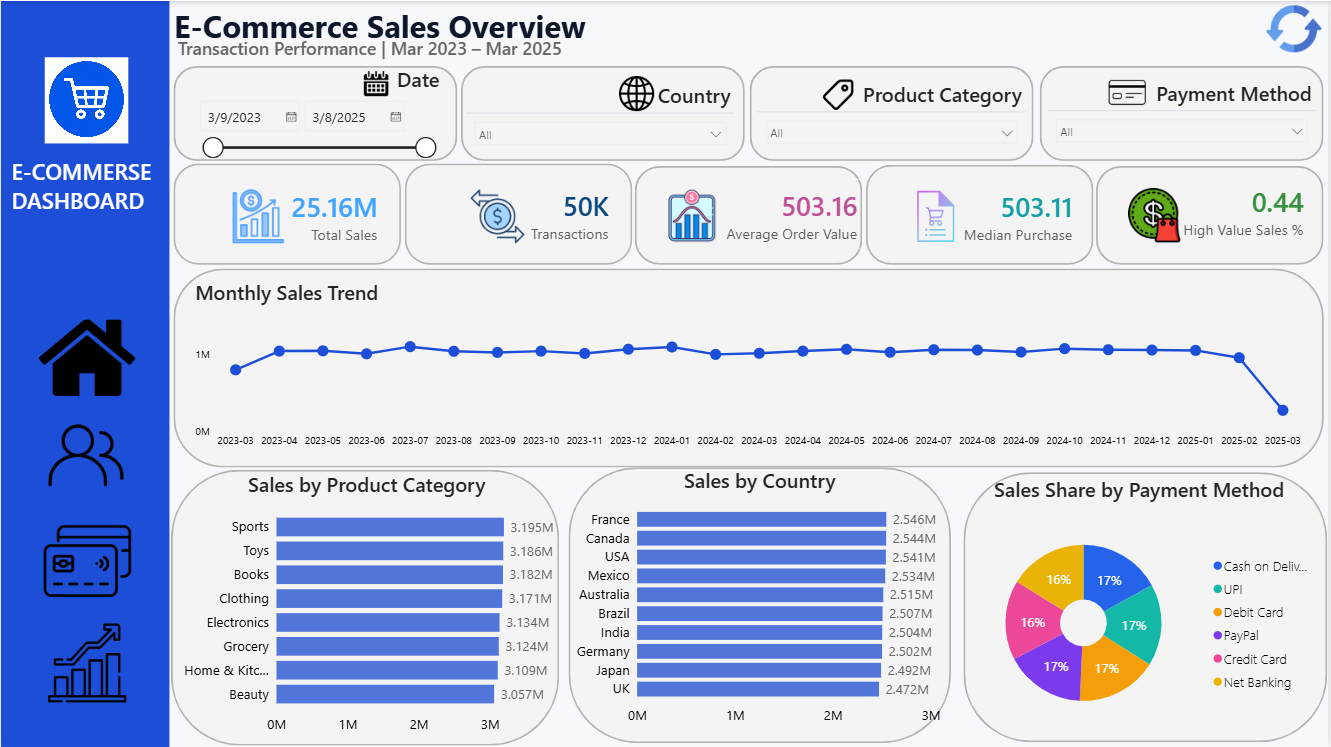

The page's visual inventory and layout, read from the dashboard file:
{"tool":"powerbi","page":{"name":"Page 1","canvas":[1600,900],"ordinal":0},"visuals":[{"type":"shape","box":[0,0,203.6,900.3],"z":0},{"type":"textbox","box":[203.6,0,595.7,67.9],"z":1000},{"type":"textbox","box":[208,37,505.2,61],"z":2000},{"type":"image","box":[52.8,67.9,101,104.1],"z":3000},{"type":"textbox","box":[7.5,182.5,190,89],"z":4000},{"type":"image","box":[52.8,751,102.5,95],"z":5000},{"type":"image","box":[57.3,488.6,90.5,119.1],"z":6000},{"type":"image","box":[48.3,622.8,111.6,105.6],"z":7000},{"type":"shape","box":[208.1,78.4,342.3,114.6],"z":8000},{"type":"slicer","title":"Date","fields":{"Values":["DimDate.Date"]},"box":[227.7,78.4,306.1,114.6],"z":9000},{"type":"shape","box":[903.3,78.4,342.3,114.6],"z":10000},{"type":"shape","box":[1253.2,78.4,342.3,114.6],"z":11000},{"type":"shape","box":[555,78.4,342.3,114.6],"z":12000},{"type":"slicer","title":"Country","fields":{"Values":["Transactions.Country"]},"box":[561,98,324.2,84.5],"z":13000},{"type":"slicer","title":"Payment Method","fields":{"Values":["Transactions.Payment_Method"]},"box":[1262.2,95,324.2,87.5],"z":14000},{"type":"slicer","title":"Product Category","fields":{"Values":["Transactions.Product_Category"]},"box":[912.4,96.5,324.2,86],"z":15000},{"type":"shape","box":[208.1,196,274.5,122.2],"z":16000},{"type":"shape","box":[1043.6,197.6,274.5,120.6],"z":17000},{"type":"shape","box":[1321.1,199.1,274.5,119.1],"z":18000},{"type":"shape","box":[764.6,199.1,274.5,119.1],"z":19000},{"type":"shape","box":[487.1,196,274.5,122.2],"z":20000},{"type":"image","box":[417.7,84,69.4,30.2],"z":21000},{"type":"image","box":[734.4,90.5,64.8,42.2],"z":22000},{"type":"image","box":[957.6,93.5,104.1,39.2],"z":23000},{"type":"image","box":[1307.5,87.5,102.5,45.2],"z":24000},{"type":"cardVisual","fields":{"Data":["Dax.Total Sales"]},"box":[306.1,199.1,176.4,119.1],"z":25000},{"type":"cardVisual","fields":{"Data":["Dax.Transactions Count"]},"box":[585.1,197.6,176.4,119.1],"z":26000},{"type":"cardVisual","fields":{"Data":["Dax.Average Order Value"]},"box":[837,197.6,224.7,119.1],"z":27000},{"type":"cardVisual","fields":{"Data":["Dax.Median Purchase"]},"box":[1126.5,199.1,194.5,119.1],"z":28000},{"type":"cardVisual","fields":{"Data":["Dax.High Value Sales %"]},"box":[1381.4,193,218.7,119.1],"z":29000},{"type":"image","box":[276.2,226.4,68.6,66.9],"z":30000},{"type":"image","box":[560.9,226.4,77.2,66.9],"z":31000},{"type":"image","box":[799.3,226.4,70.3,66.9],"z":32000},{"type":"image","box":[1092.6,224.7,68.6,70.3],"z":33000},{"type":"image","box":[1358.5,223,65.2,70.3],"z":34000},{"type":"shape","box":[207.5,322.5,1387.7,240.1],"z":35000},{"type":"shape","box":[205.8,566,468.3,332.8],"z":36000},{"type":"lineChart","title":"Monthly Sales Trend","fields":{"Category":["DimDate.Year Month"],"Y":["Dax.Total Sales"]},"box":[229.8,334.5,1346.5,214.4],"z":37000},{"type":"shape","box":[1161.2,568.5,438.8,325.7],"z":38000},{"type":"shape","box":[684.4,562.6,461.4,332.8],"z":39000},{"type":"clusteredBarChart","title":"Sales by Product Category","fields":{"Category":["Transactions.Product_Category"],"Y":["Dax.Total Sales"]},"box":[197.3,567.8,487.1,327.6],"z":40000},{"type":"clusteredBarChart","title":"Sales by Country","fields":{"Y":["Dax.Total Sales"],"Category":["Transactions.Country"]},"box":[684.7,562.5,461.5,321.2],"z":41000},{"type":"donutChart","title":"Sales Share by Payment Method","fields":{"Category":["Transactions.Payment_Method"],"Y":["Dax.Total Sales"]},"box":[1146.1,573.1,453.9,322.7],"z":42000},{"type":"image","box":[1518,0,82.3,66.9],"z":43000},{"type":"image","box":[36.2,372.5,135.7,116.1],"z":44000}]}

Visuals, with their boxes in screenshot pixels (x1, y1, x2, y2), scaled from the page's 1600x900 canvas onto the 1331x747 screenshot:
shape: {"x1": 0, "y1": 0, "x2": 169, "y2": 746}
textbox: {"x1": 169, "y1": 0, "x2": 665, "y2": 56}
textbox: {"x1": 173, "y1": 31, "x2": 593, "y2": 81}
image: {"x1": 44, "y1": 56, "x2": 128, "y2": 143}
textbox: {"x1": 6, "y1": 151, "x2": 164, "y2": 225}
image: {"x1": 44, "y1": 623, "x2": 129, "y2": 702}
image: {"x1": 48, "y1": 406, "x2": 123, "y2": 504}
image: {"x1": 40, "y1": 517, "x2": 133, "y2": 605}
shape: {"x1": 173, "y1": 65, "x2": 458, "y2": 160}
"Date" slicer: {"x1": 189, "y1": 65, "x2": 444, "y2": 160}
shape: {"x1": 751, "y1": 65, "x2": 1036, "y2": 160}
shape: {"x1": 1043, "y1": 65, "x2": 1327, "y2": 160}
shape: {"x1": 462, "y1": 65, "x2": 746, "y2": 160}
"Country" slicer: {"x1": 467, "y1": 81, "x2": 736, "y2": 151}
"Payment Method" slicer: {"x1": 1050, "y1": 79, "x2": 1320, "y2": 151}
"Product Category" slicer: {"x1": 759, "y1": 80, "x2": 1029, "y2": 151}
shape: {"x1": 173, "y1": 163, "x2": 401, "y2": 264}
shape: {"x1": 868, "y1": 164, "x2": 1096, "y2": 264}
shape: {"x1": 1099, "y1": 165, "x2": 1327, "y2": 264}
shape: {"x1": 636, "y1": 165, "x2": 864, "y2": 264}
shape: {"x1": 405, "y1": 163, "x2": 634, "y2": 264}
image: {"x1": 347, "y1": 70, "x2": 405, "y2": 95}
image: {"x1": 611, "y1": 75, "x2": 665, "y2": 110}
image: {"x1": 797, "y1": 78, "x2": 883, "y2": 110}
image: {"x1": 1088, "y1": 73, "x2": 1173, "y2": 110}
cardVisual - Dax.Total Sales: {"x1": 255, "y1": 165, "x2": 401, "y2": 264}
cardVisual - Dax.Transactions Count: {"x1": 487, "y1": 164, "x2": 633, "y2": 263}
cardVisual - Dax.Average Order Value: {"x1": 696, "y1": 164, "x2": 883, "y2": 263}
cardVisual - Dax.Median Purchase: {"x1": 937, "y1": 165, "x2": 1099, "y2": 264}
cardVisual - Dax.High Value Sales %: {"x1": 1149, "y1": 160, "x2": 1330, "y2": 259}
image: {"x1": 230, "y1": 188, "x2": 287, "y2": 243}
image: {"x1": 467, "y1": 188, "x2": 531, "y2": 243}
image: {"x1": 665, "y1": 188, "x2": 723, "y2": 243}
image: {"x1": 909, "y1": 187, "x2": 966, "y2": 245}
image: {"x1": 1130, "y1": 185, "x2": 1184, "y2": 243}
shape: {"x1": 173, "y1": 268, "x2": 1327, "y2": 467}
shape: {"x1": 171, "y1": 470, "x2": 561, "y2": 746}
"Monthly Sales Trend" lineChart: {"x1": 191, "y1": 278, "x2": 1311, "y2": 456}
shape: {"x1": 966, "y1": 472, "x2": 1330, "y2": 742}
shape: {"x1": 569, "y1": 467, "x2": 953, "y2": 743}
"Sales by Product Category" clusteredBarChart: {"x1": 164, "y1": 471, "x2": 569, "y2": 743}
"Sales by Country" clusteredBarChart: {"x1": 570, "y1": 467, "x2": 953, "y2": 733}
"Sales Share by Payment Method" donutChart: {"x1": 953, "y1": 476, "x2": 1330, "y2": 744}
image: {"x1": 1263, "y1": 0, "x2": 1330, "y2": 56}
image: {"x1": 30, "y1": 309, "x2": 143, "y2": 406}
